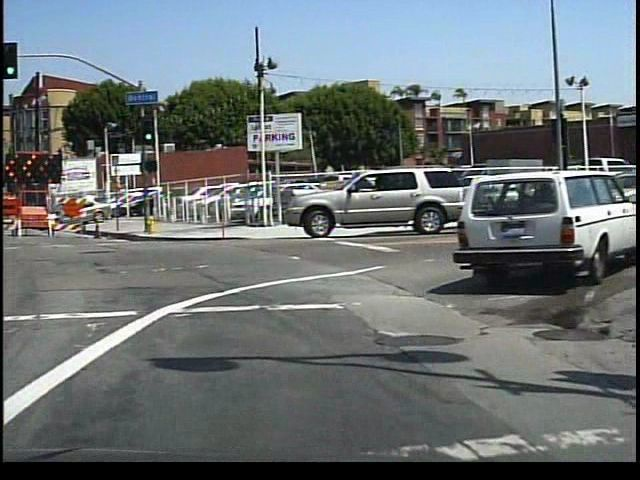person: (565, 161, 585, 205)
